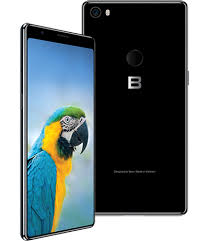bphone: (80, 1, 190, 219)
